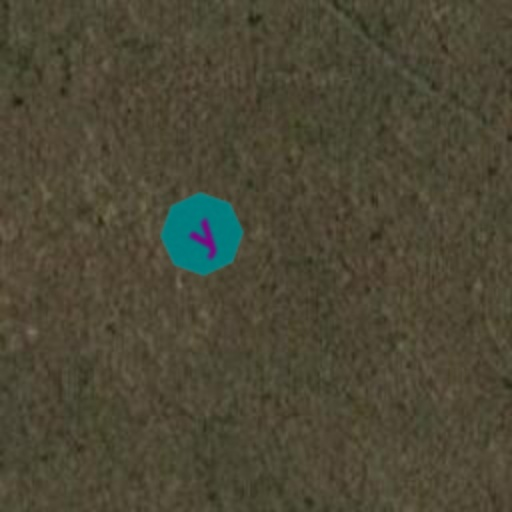octagon: (142, 174, 262, 294)
